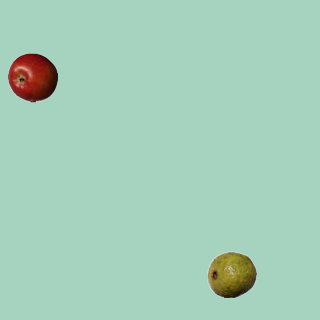Apple Braeburn: (7, 52, 57, 102)
Guava: (206, 249, 256, 299)
